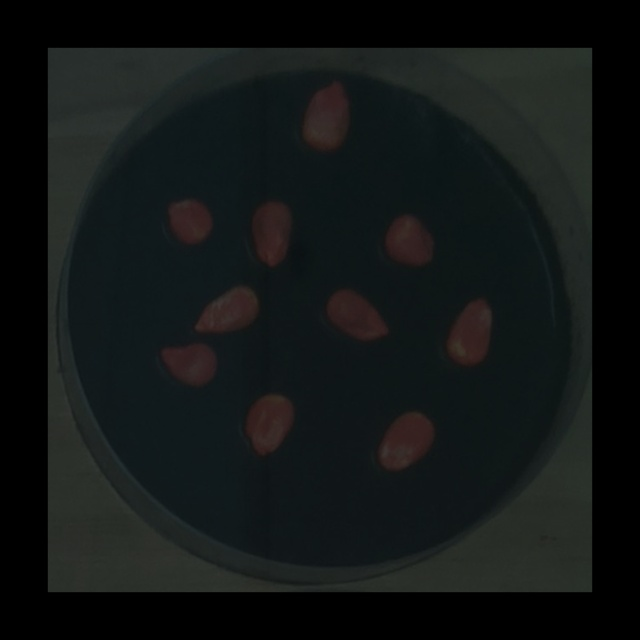Zea mays: (371, 404, 440, 478), (320, 281, 394, 348), (296, 74, 356, 156), (440, 291, 499, 373), (188, 278, 266, 340), (237, 387, 301, 462), (245, 194, 298, 274), (379, 207, 440, 274), (154, 338, 223, 394), (160, 192, 217, 251)
